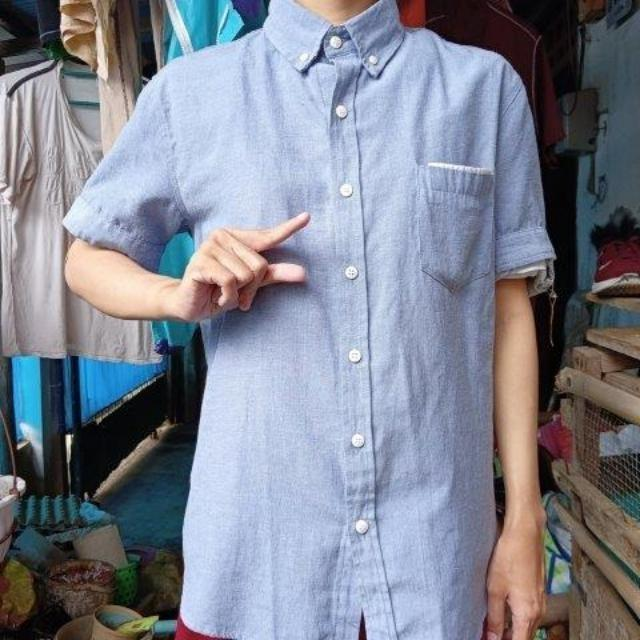R: (180, 204, 321, 324)
